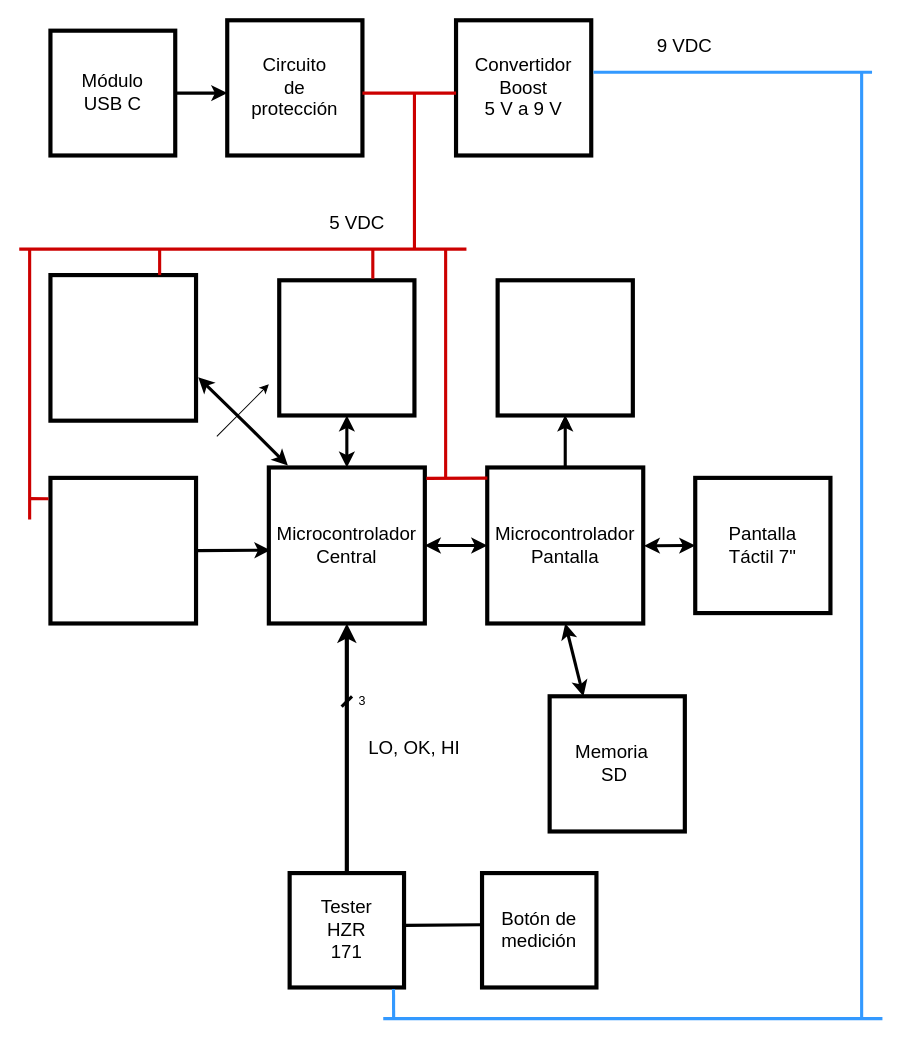
This 903x1039 diagram has some shape labels left out. Here are the shapes that lost their labels. From the top down, the box of each, then its label:
(48, 272, 198, 422): Módulo de reconocimiento facial
(277, 278, 416, 417): Lector de código de barras
(495, 278, 634, 417): Parlante
(48, 475, 198, 625): Sensor SHT31-D
